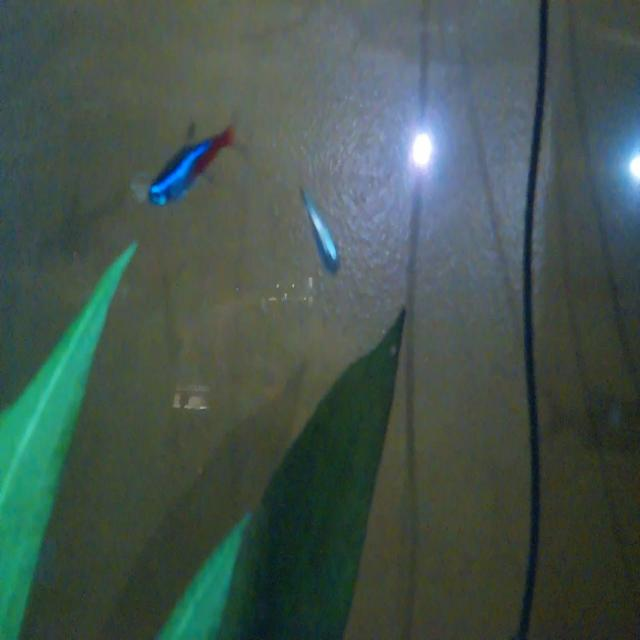fish: (137, 111, 243, 217), (294, 177, 349, 283)
